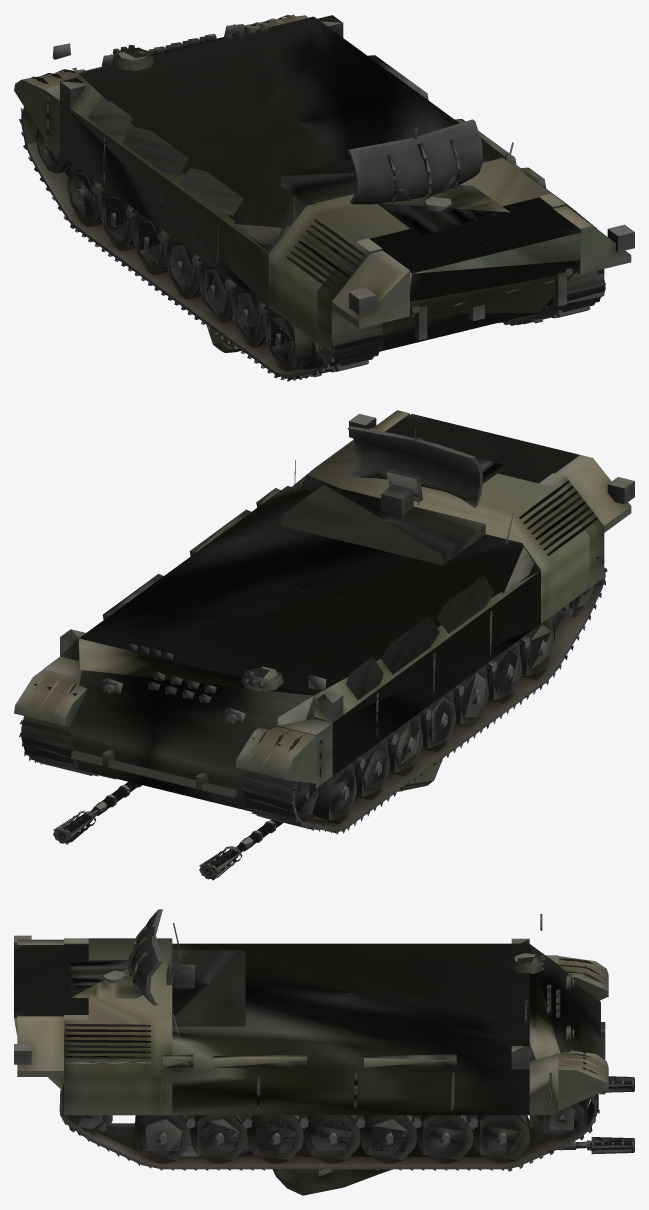
The model's file is gepard_lo.glb.
3 renders of one model, top to bottom at view 1: azimuth 30°, elevation 25°; view 2: azimuth 150°, elevation 25°; view 3: azimuth 270°, elevation 25°, orthographic. The views are drawn at different scales.
Visible parts, largest first — view 1: body|GEP_body, body|GEP_dark, body|GEP_steel, radar|GEP_dark; view 2: body|GEP_body, body|GEP_dark, body|GEP_steel, radar|GEP_dark, cradle|GEP_steel, cradle|GEP_dark; view 3: body|GEP_body, body|GEP_dark, body|GEP_steel, radar|GEP_dark, cradle|GEP_body, cradle|GEP_steel, cradle|GEP_dark.
Part boxes in pixels (<box>): body|GEP_body: <box>14,14,631,353</box>; body|GEP_dark: <box>21,14,634,379</box>; body|GEP_steel: <box>19,24,595,381</box>; radar|GEP_dark: <box>347,119,482,204</box>; body|GEP_body: <box>14,410,631,811</box>; body|GEP_dark: <box>20,413,634,833</box>; body|GEP_steel: <box>19,556,607,834</box>; radar|GEP_dark: <box>347,426,482,515</box>; cradle|GEP_steel: <box>53,782,283,880</box>; cradle|GEP_dark: <box>58,801,253,875</box>; body|GEP_body: <box>14,938,608,1127</box>; body|GEP_dark: <box>14,935,598,1170</box>; body|GEP_steel: <box>63,914,605,1171</box>; radar|GEP_dark: <box>127,909,195,1005</box>; cradle|GEP_body: <box>272,1128,392,1195</box>; cradle|GEP_steel: <box>317,1076,634,1176</box>; cradle|GEP_dark: <box>318,1081,631,1174</box>.
Bounding box in the file's own units: 3.24 × 2.96 × 7.37.
13 materials, 13 textured.
